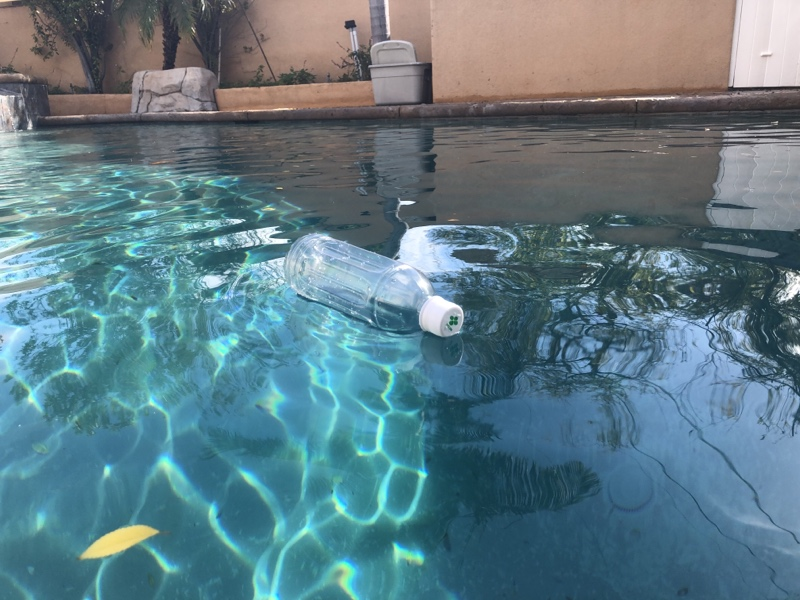Plastic Bottle: (281, 229, 467, 340)
